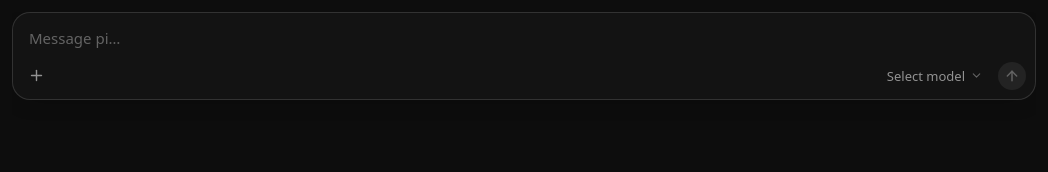
Test: Composer prompt history › drops edits to a recalled prompt on the next step
Click the text box labelled "Message".
click(524, 34)  # box [13,13,1035,55]
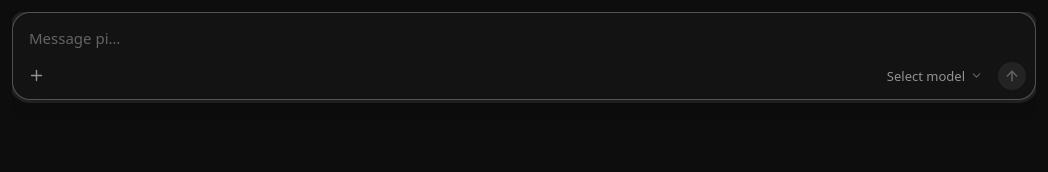
Press Arrowup
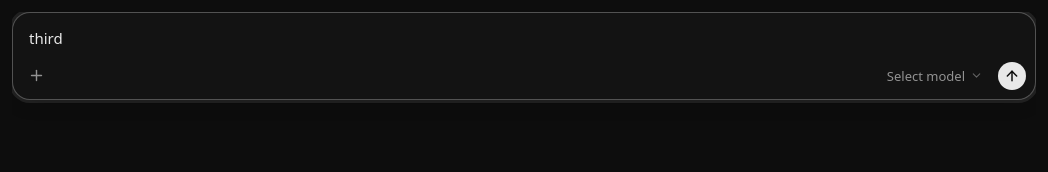
Type keys "{End} edited"
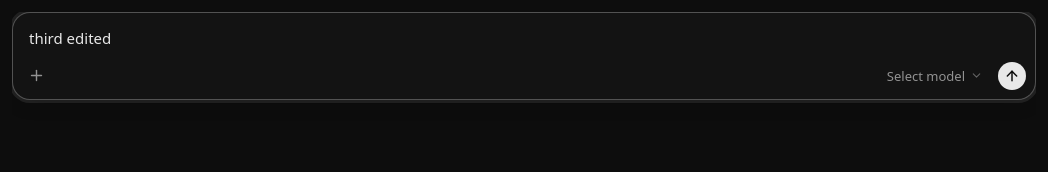
Expected: the text box named "Message" holds "third edited", [13,13,1035,55]
Press Home Arrowup End Arrowdown
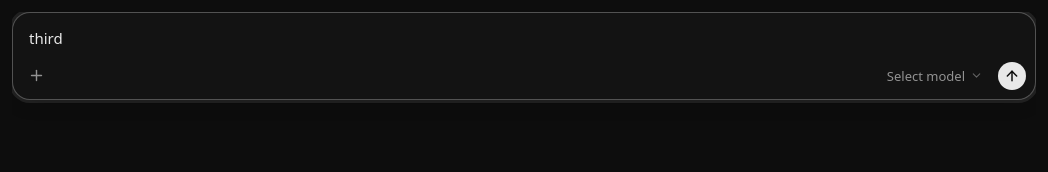
Expected: the text box named "Message" holds "third", [13,13,1035,55]
Press Arrowdown
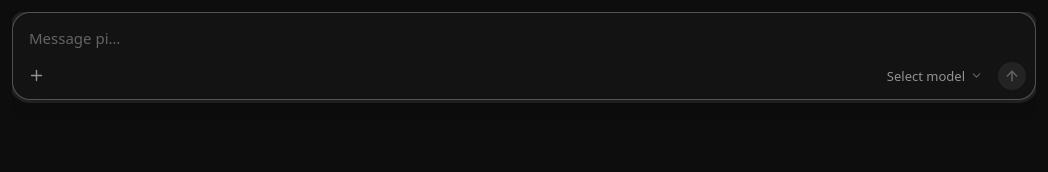
Expected: the text box labelled "Message" is empty, [13,13,1035,55]
